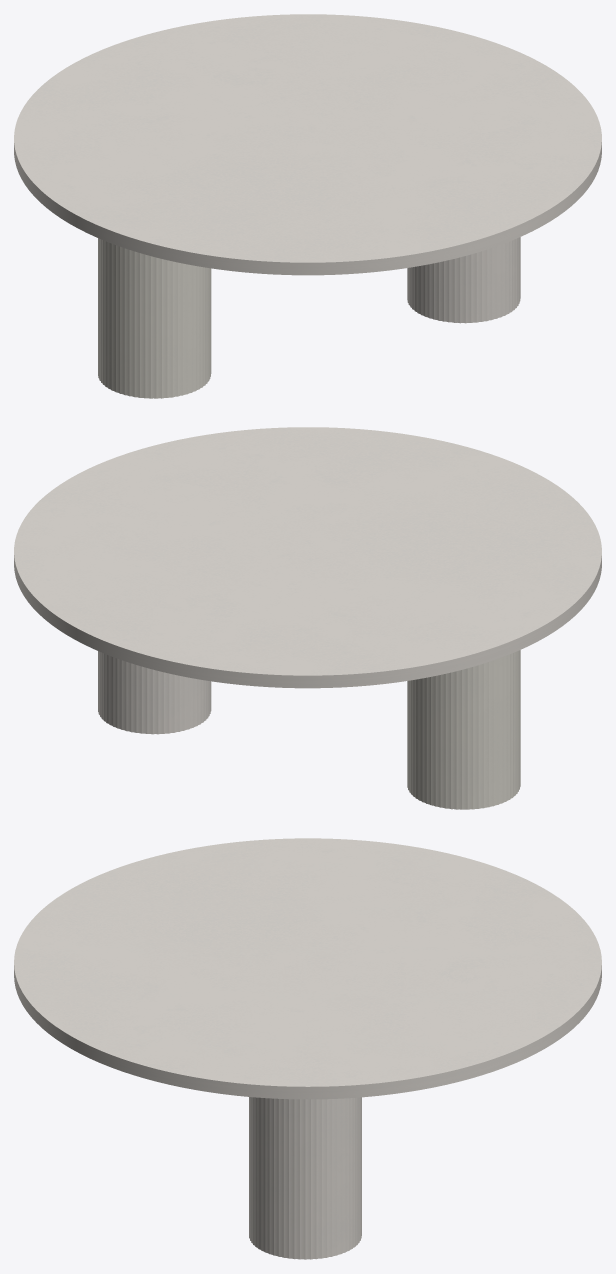
Rendered from pearlwhite_round_standard_ripplesecond.glb.
The picture shows the model from 3 angles, top to bottom: view 1: azimuth 30°, elevation 25°; view 2: azimuth 150°, elevation 25°; view 3: azimuth 270°, elevation 25°; orthographic projection.
Parts seen in each view (by area): view 1: standard_round, ripplesecond; view 2: standard_round, ripplesecond; view 3: standard_round, ripplesecond.
Boxes of the visible parts, x1,y1,x2,y2 form: standard_round: (14,14,601,275); ripplesecond: (98,237,520,398); standard_round: (14,427,601,688); ripplesecond: (98,650,520,809); standard_round: (14,838,601,1099); ripplesecond: (249,1097,361,1259).
Size of the model in its own units: 6.75 by 2.5 by 6.75.
2 materials, 2 textured.
